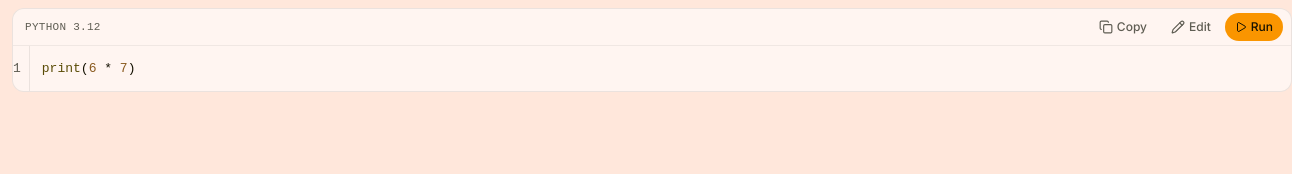
RunnableCodeBlock › runs supported code and shows stdout, status and Run again
Step 1. Click the button with aria-label "Run code" → (1254, 27), box [1225, 13, 1283, 41]
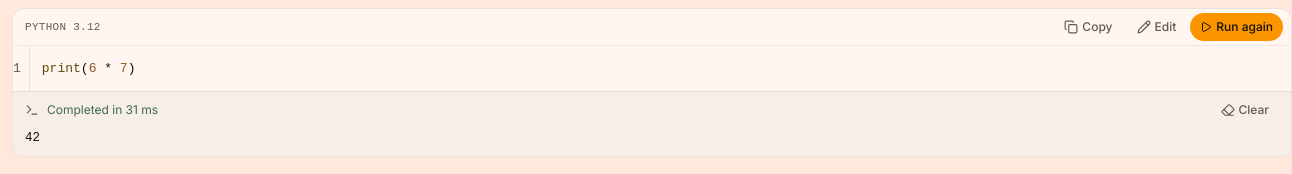
Check: the message shows "Completed", box [47, 102, 158, 117]
Check: the button "Run again" is shown, box [1190, 13, 1283, 41]
